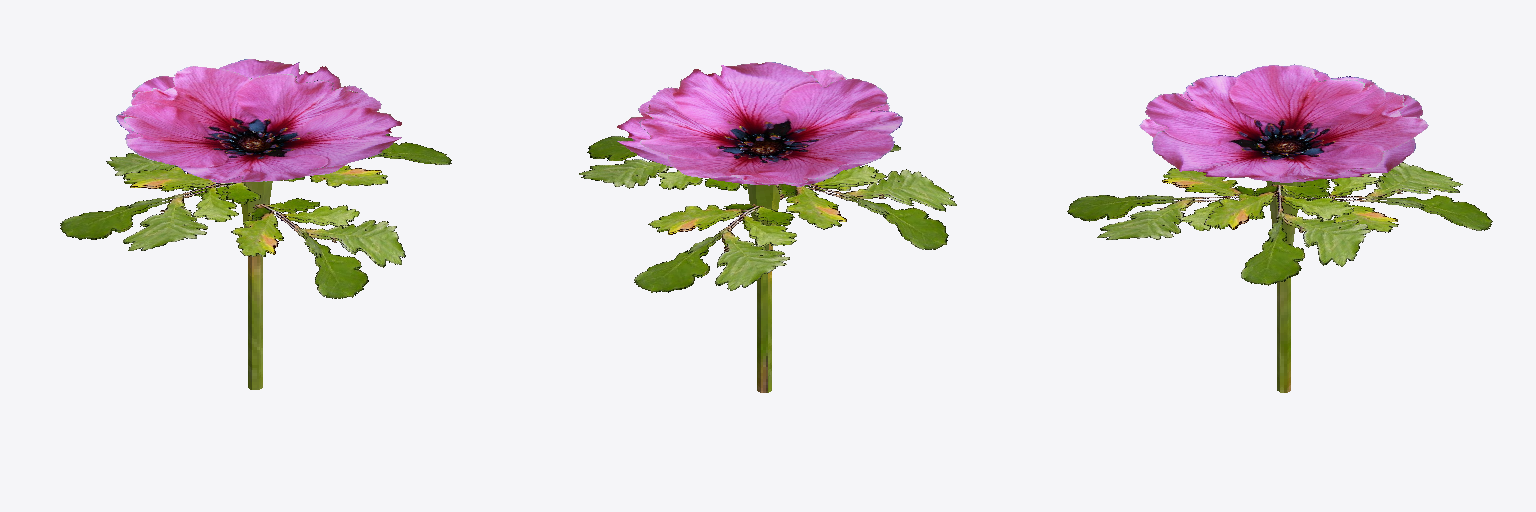
3 renders of one model, left to right at view 1: azimuth 30°, elevation 25°; view 2: azimuth 150°, elevation 25°; view 3: azimuth 270°, elevation 25°, orthographic.
Parts seen in each view (by area): view 1: skin; view 2: skin; view 3: skin.
Part boxes in pixels (bbox=[...]): skin: bbox=[60, 59, 451, 389]; skin: bbox=[579, 62, 956, 392]; skin: bbox=[1067, 64, 1492, 392].
Bounding box in the file's own units: 3 × 2 × 3.
Materials: 1 (1 with a texture image).